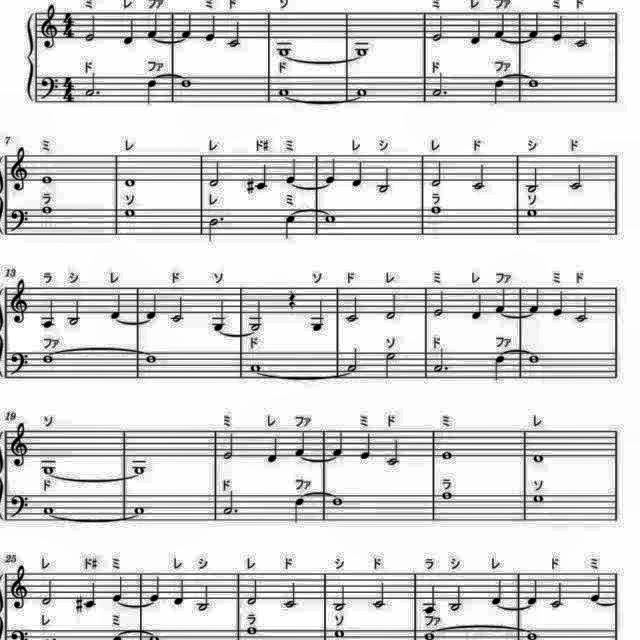Bass-clef: (8, 491, 32, 521), (8, 349, 32, 379), (8, 206, 32, 234), (38, 76, 60, 102)
Diez: (244, 174, 256, 196), (74, 594, 85, 614)
Full-note: (129, 460, 149, 476), (120, 174, 136, 190), (524, 75, 542, 89), (37, 173, 55, 187), (352, 86, 370, 100), (352, 43, 370, 57), (131, 503, 149, 517), (141, 352, 159, 366), (38, 352, 56, 366), (329, 495, 346, 509), (37, 203, 54, 217), (321, 211, 337, 225), (526, 352, 542, 366), (120, 207, 136, 221), (178, 75, 194, 88), (248, 361, 264, 374), (439, 450, 456, 462), (439, 490, 456, 502), (530, 452, 546, 464), (428, 204, 444, 216), (276, 44, 292, 56), (530, 492, 546, 504), (276, 87, 292, 99), (40, 506, 56, 518), (40, 464, 56, 476), (525, 207, 539, 220)
Half-dot: (220, 487, 240, 517), (206, 216, 226, 244), (85, 70, 104, 98), (431, 346, 449, 374), (431, 70, 449, 98)
Half-note: (246, 297, 266, 333), (572, 18, 592, 50), (566, 163, 586, 193), (344, 292, 362, 324), (65, 295, 83, 325), (227, 20, 245, 50), (206, 162, 224, 192), (574, 295, 592, 325), (169, 295, 187, 325), (469, 162, 487, 192), (375, 164, 393, 194), (524, 164, 542, 193), (220, 428, 236, 460), (382, 290, 398, 322), (384, 437, 401, 467), (334, 584, 351, 614), (369, 579, 386, 609), (382, 349, 398, 379), (282, 581, 298, 611), (448, 584, 464, 614), (428, 161, 444, 191), (39, 577, 55, 607), (550, 581, 566, 611), (195, 584, 212, 612), (346, 345, 362, 373), (430, 288, 446, 316), (244, 574, 258, 606), (85, 13, 99, 42), (430, 12, 444, 40)
Quarter-note: (308, 296, 328, 334), (38, 298, 58, 330), (210, 297, 228, 331), (421, 582, 439, 616), (470, 290, 486, 322), (266, 434, 282, 466), (254, 160, 270, 192), (489, 575, 506, 605), (358, 431, 374, 462), (84, 581, 100, 611), (526, 10, 542, 40), (350, 159, 366, 189), (470, 15, 486, 45), (322, 155, 338, 185), (332, 429, 348, 459), (172, 578, 188, 608), (120, 16, 136, 46), (292, 427, 308, 457), (146, 575, 162, 605), (291, 495, 307, 525), (492, 354, 508, 384), (108, 292, 124, 321), (490, 76, 506, 105), (492, 12, 508, 40), (588, 574, 604, 602), (178, 12, 194, 40), (144, 294, 160, 322), (144, 12, 160, 40), (283, 158, 299, 186), (492, 286, 508, 314), (530, 286, 546, 314), (110, 576, 126, 604), (282, 214, 298, 242), (204, 15, 218, 45), (552, 287, 566, 317), (552, 13, 566, 43), (526, 578, 540, 608), (144, 76, 158, 104)
Quarter-rest: (285, 289, 299, 311)
Treble-clef: (38, 3, 62, 53), (7, 420, 31, 468), (8, 276, 30, 324), (8, 564, 30, 612), (8, 148, 30, 196)
